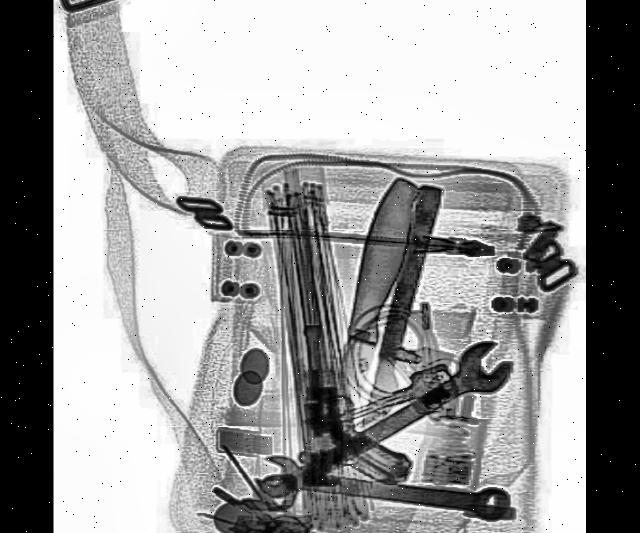Gun: (302, 315, 415, 500)
Knife: (289, 172, 428, 520), (337, 182, 452, 525)
Wrench: (258, 327, 520, 530), (256, 452, 512, 527)
